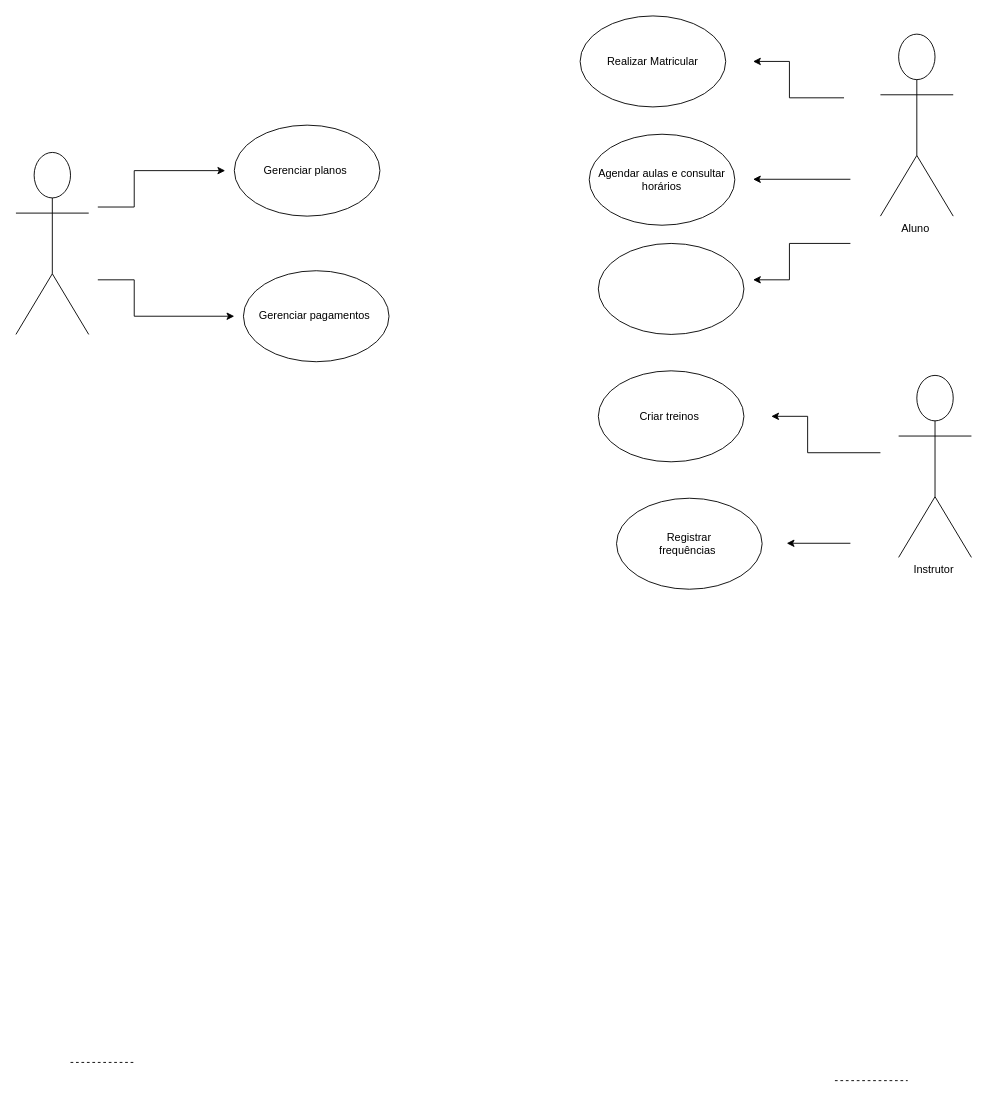
This 987x1097 diagram has some shape labels left out. Each missing label, with the box of its shape:
Consultar horários: (597, 243, 744, 334)
Gerente: (15, 152, 89, 334)
